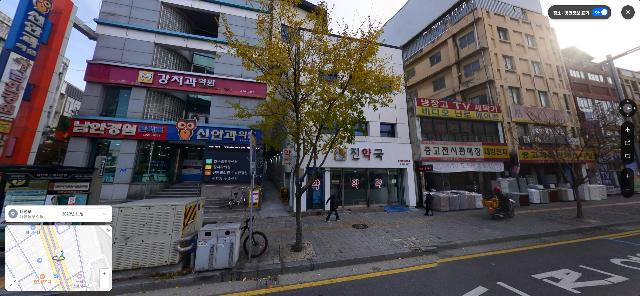ginkgo: (209, 0, 413, 253)
other: (515, 105, 612, 219)
